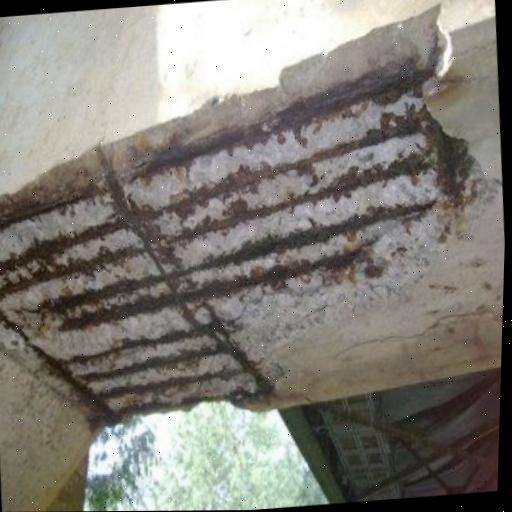exposed_rebar: (127, 72, 433, 183), (128, 117, 418, 222), (169, 152, 430, 246), (178, 201, 435, 275), (97, 147, 182, 293), (0, 220, 143, 300), (200, 245, 362, 296), (204, 303, 272, 393), (0, 179, 108, 229), (81, 348, 220, 384), (38, 275, 161, 313), (97, 373, 234, 405), (70, 330, 192, 361), (59, 297, 167, 329), (432, 119, 461, 203), (178, 300, 199, 326), (183, 309, 202, 330), (173, 294, 200, 302)
spalling: (0, 6, 471, 420)
